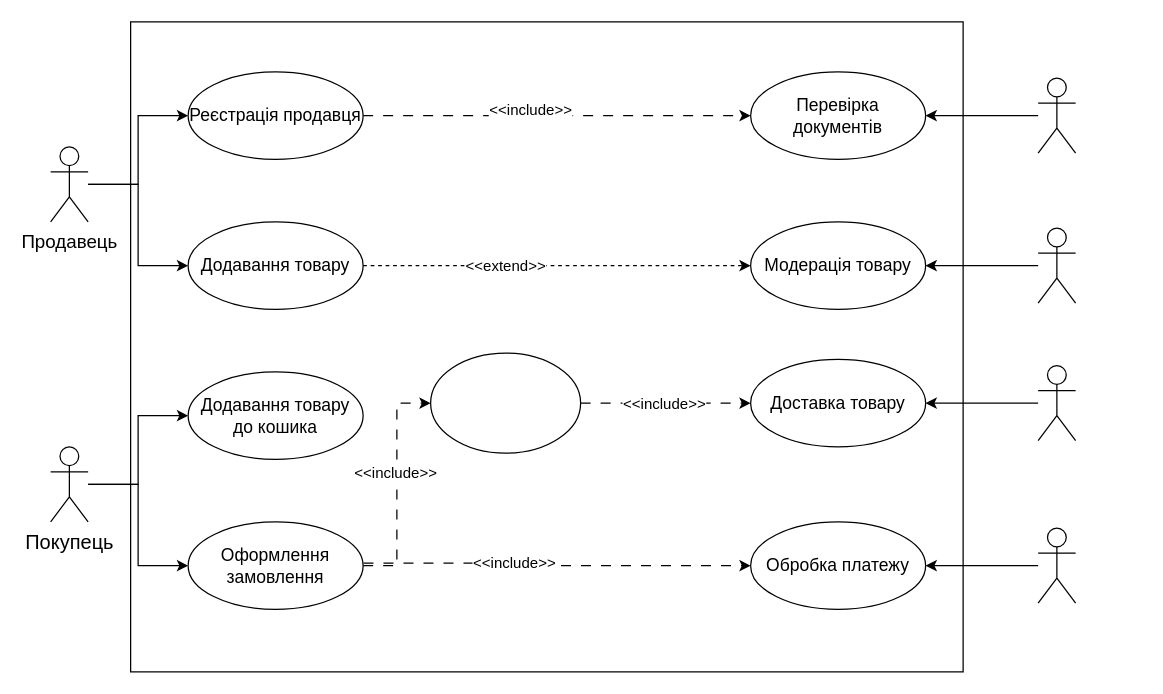
Some shapes in this 1163 by 694 pixel diagram are drawn without their labels. The centre of each missing label's shape, as x and y in pixels:
"Адміністратор" belongs at pixel 1056 265.
"Організація доставки" belongs at pixel 505 402.
"Платіжна система" belongs at pixel 1056 565.
"Служба доставки" belongs at pixel 1056 402.
"Служба перевірки особи" belongs at pixel 1056 115.
